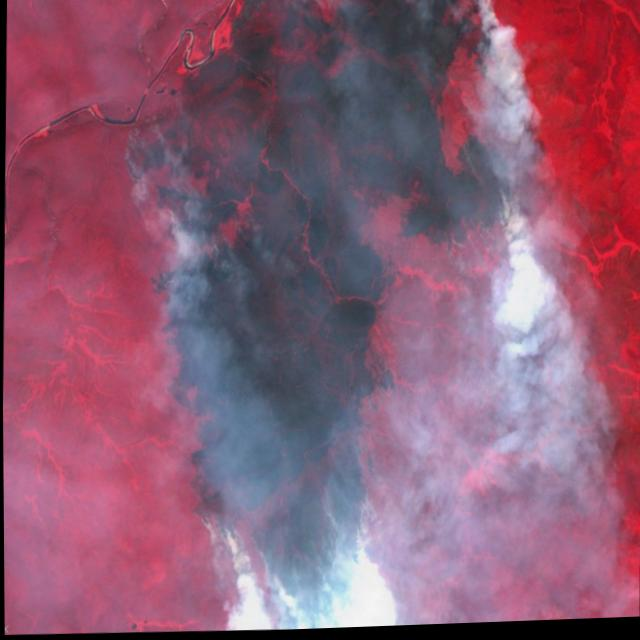fire: (185, 474, 403, 635), (407, 0, 520, 262)
